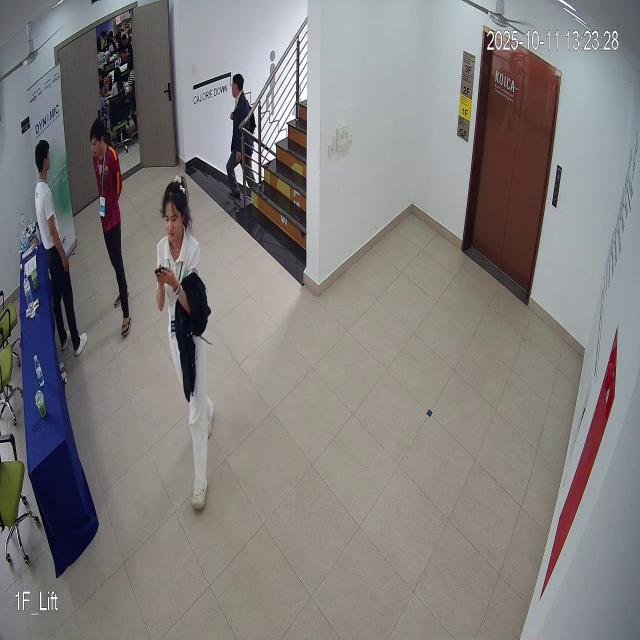face: (159, 168, 193, 250), (90, 116, 106, 162)
